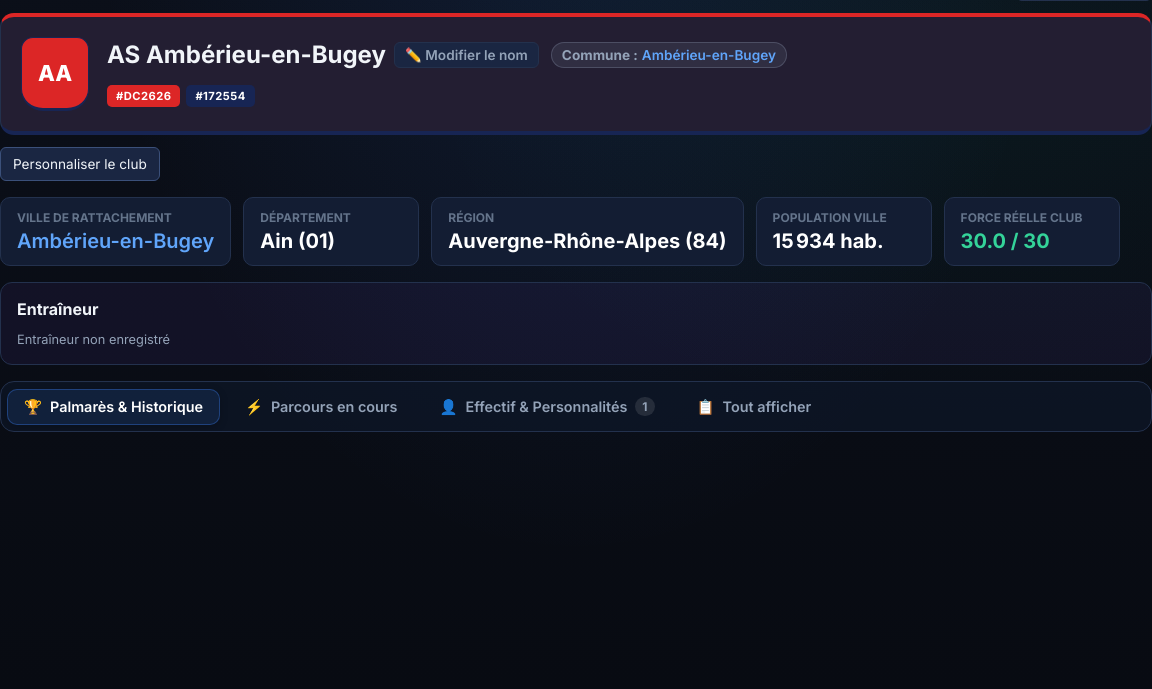
TeamPage - Club Renaming › allows navigating to Effectif tab and displays squad in a structured data table
This screenshot has width=1152, height=689.
Click the tab "👤 Effectif & Personnalités 1".
click(547, 407)  # box [422, 388, 672, 425]
(page scrolled)
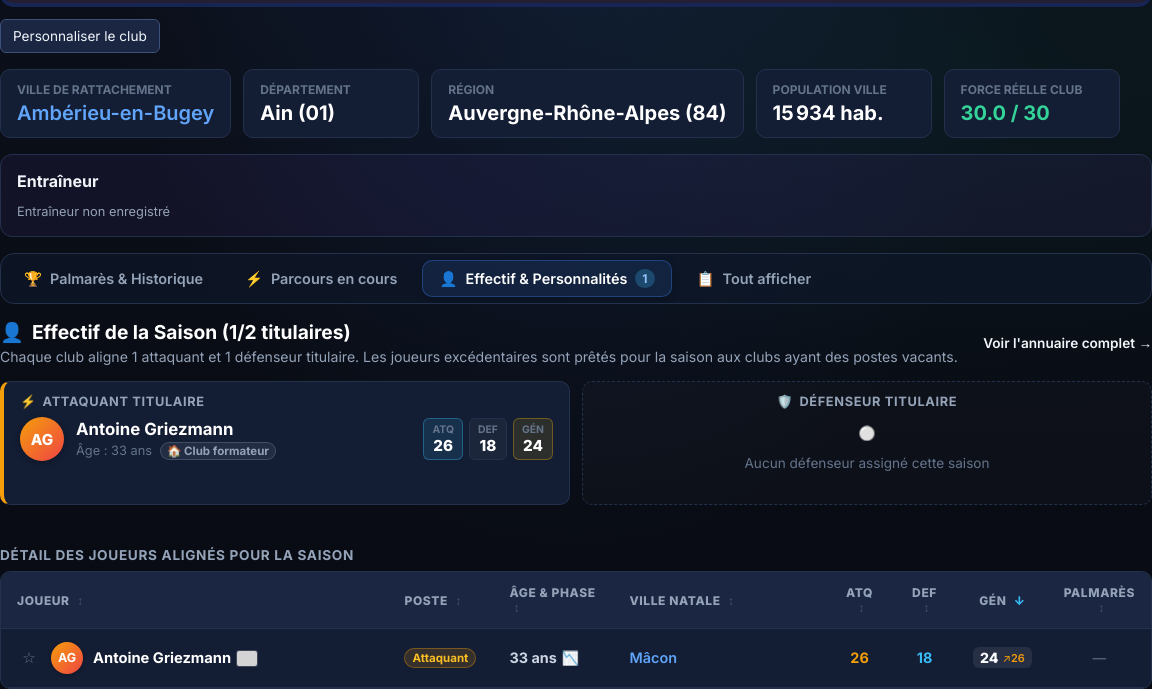
Now the link "Antoine Griezmann" below "Attaquant Titulaire" is shown, box [76, 419, 234, 439]
Now the column heading "Joueur ↕" is shown, box [1, 572, 388, 629]
Now the column heading "Ville natale ↕" is shown, box [614, 572, 827, 629]
